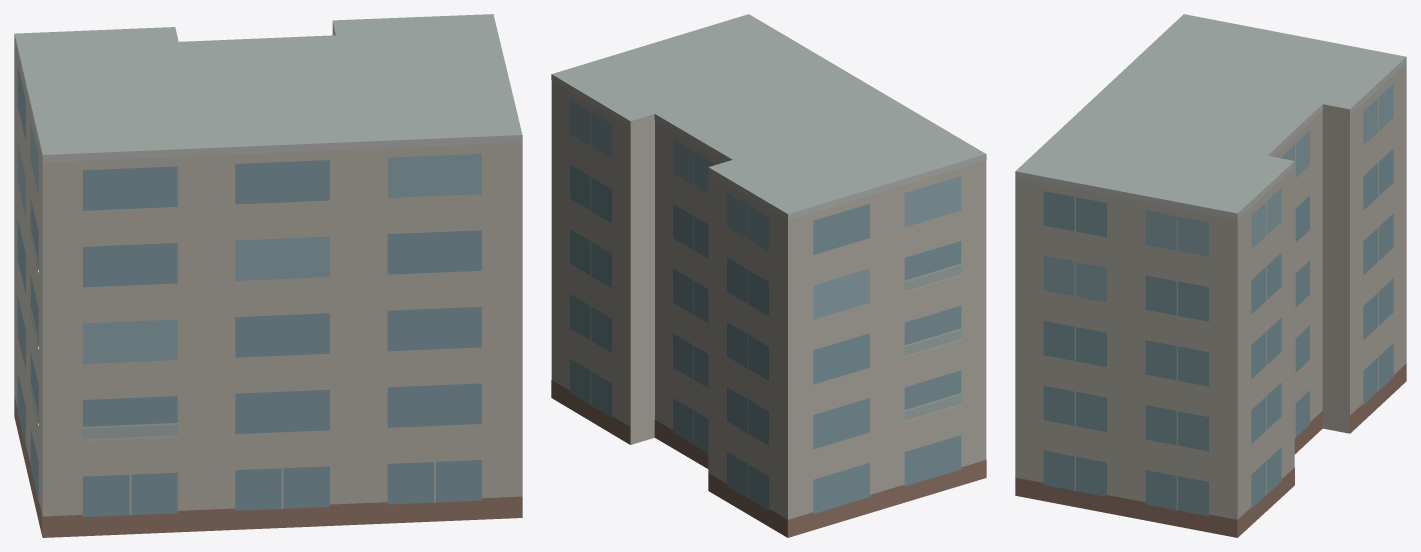
Rendered from survey-upis-32658996.glb.
The picture shows the model from 3 angles, left to right: view 1: azimuth 30°, elevation 25°; view 2: azimuth 150°, elevation 25°; view 3: azimuth 270°, elevation 25°; orthographic projection. The views are drawn at different scales.
Visible parts, largest first — view 1: survey-upis-32658996.tmp; view 2: survey-upis-32658996.tmp; view 3: survey-upis-32658996.tmp.
Boxes of the visible parts, x1,y1,x2,y2 form: survey-upis-32658996.tmp: (14,14,522,537); survey-upis-32658996.tmp: (551,14,986,537); survey-upis-32658996.tmp: (1015,14,1406,537).
Bounding box in the file's own units: 16.91 × 12.81 × 14.02.
